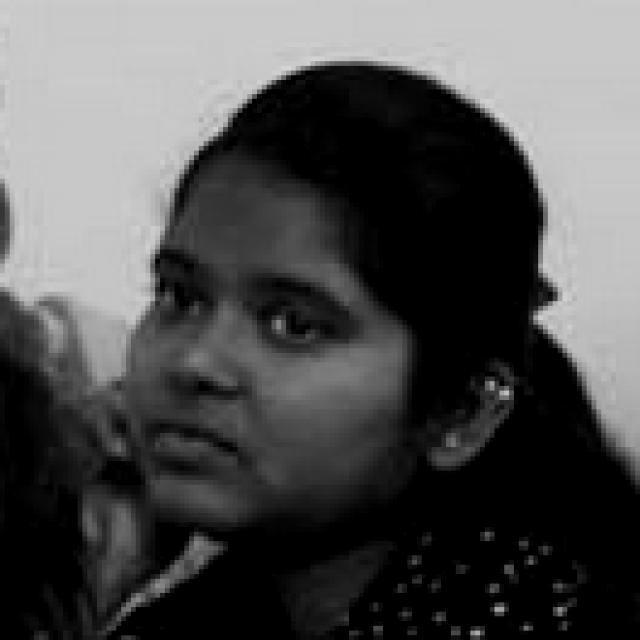Looking forward: (125, 170, 412, 533)
